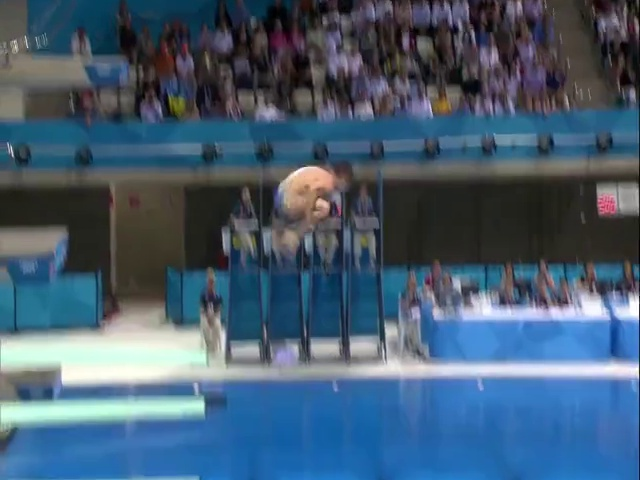diver: (269, 160, 355, 258)
